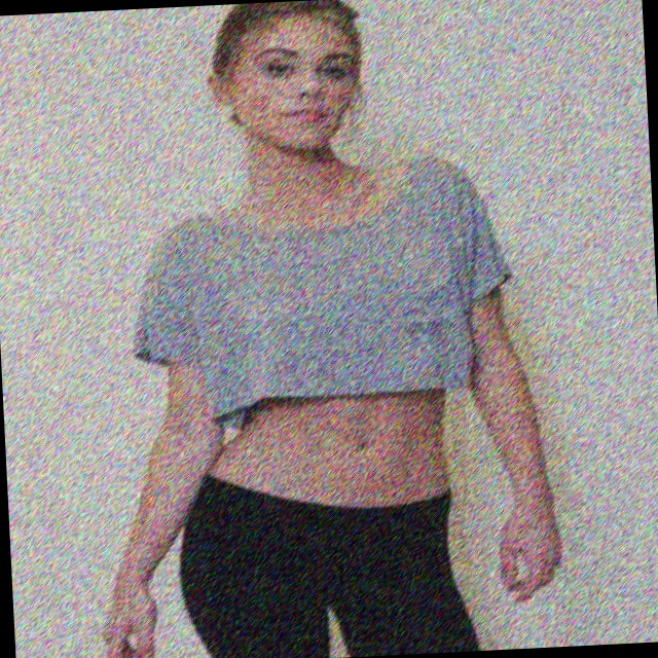Crop_Top: (189, 221, 452, 517)
